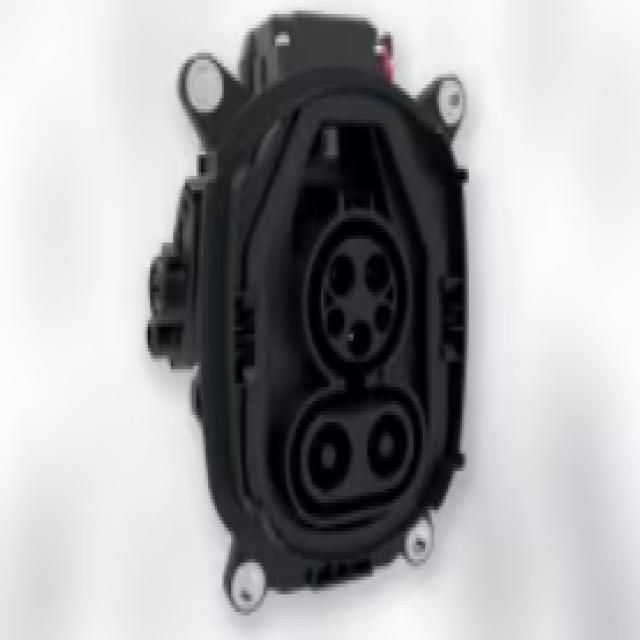CCS1: (271, 182, 434, 538)
